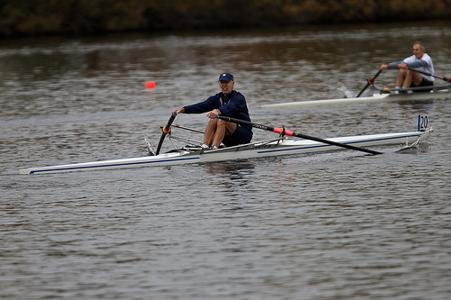person: (172, 72, 255, 150)
